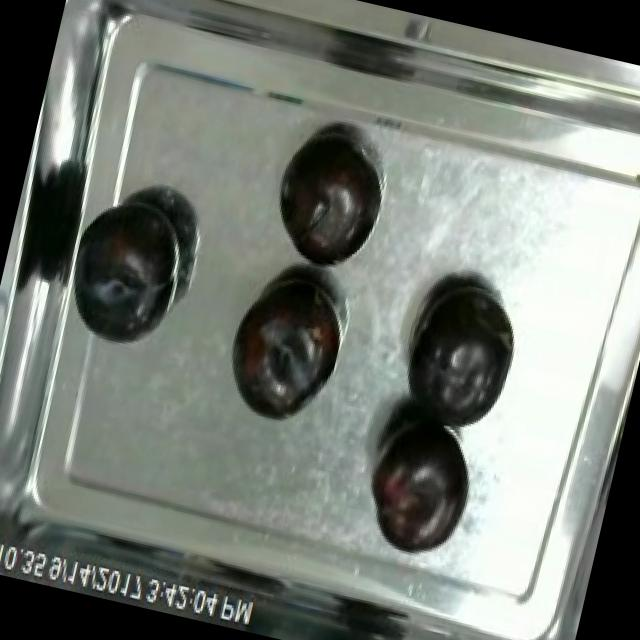Fruit: (53, 182, 198, 362), (389, 268, 532, 442), (211, 262, 352, 434), (351, 403, 486, 568), (259, 126, 390, 278)
